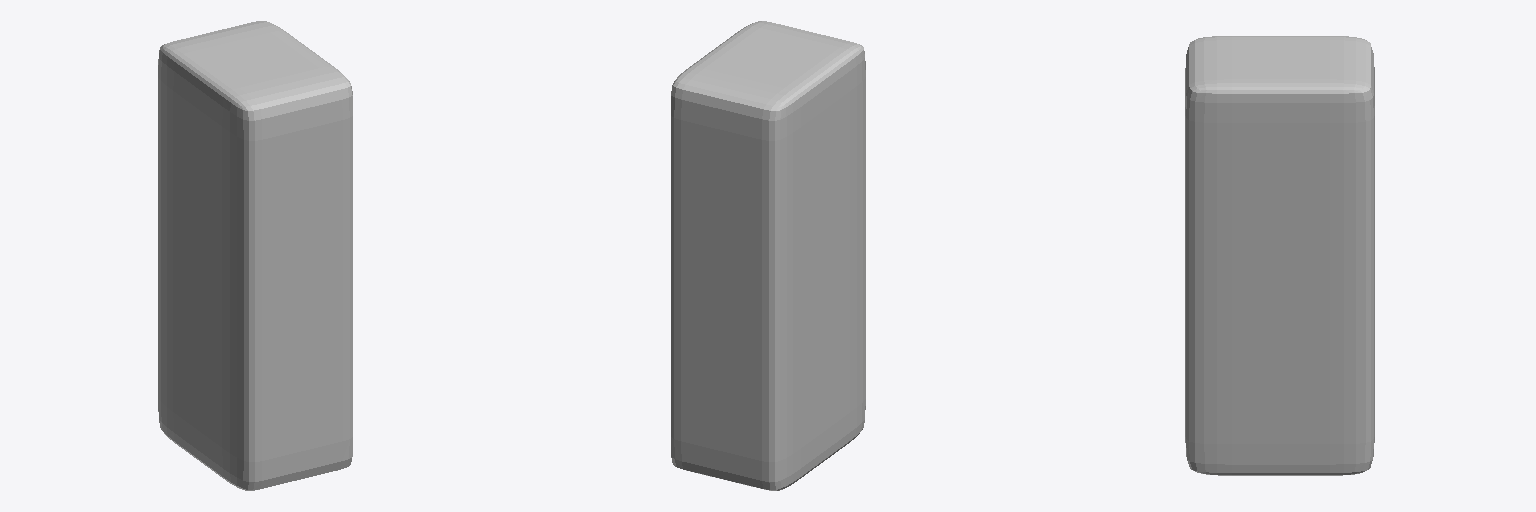
3 renders of one model, left to right at view 1: azimuth 30°, elevation 25°; view 2: azimuth 150°, elevation 25°; view 3: azimuth 270°, elevation 25°, orthographic.
Visible parts, largest first — view 1: polySurface17 text2FixedOneObjectNewNoHistory:pasted__T1; view 2: polySurface17 text2FixedOneObjectNewNoHistory:pasted__T1; view 3: polySurface17 text2FixedOneObjectNewNoHistory:pasted__T1.
Boxes of the visible parts, box(x1,y1,x2,y2) form: polySurface17 text2FixedOneObjectNewNoHistory:pasted__T1: box(158, 21, 352, 490); polySurface17 text2FixedOneObjectNewNoHistory:pasted__T1: box(671, 21, 865, 490); polySurface17 text2FixedOneObjectNewNoHistory:pasted__T1: box(1185, 36, 1374, 475).
Size of the model in its own units: 119 by 387 by 170.